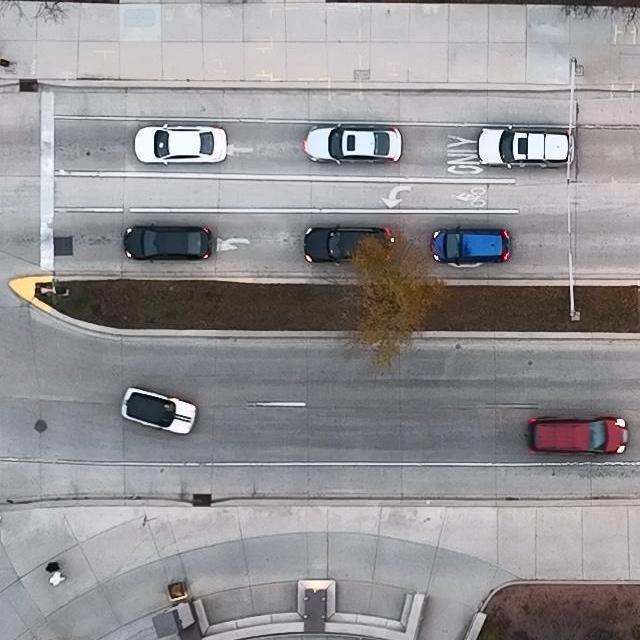car: (303, 123, 404, 166), (527, 416, 628, 456), (135, 123, 227, 166), (477, 127, 569, 170), (304, 222, 395, 265), (120, 385, 198, 434), (429, 225, 513, 266), (125, 222, 212, 261)
